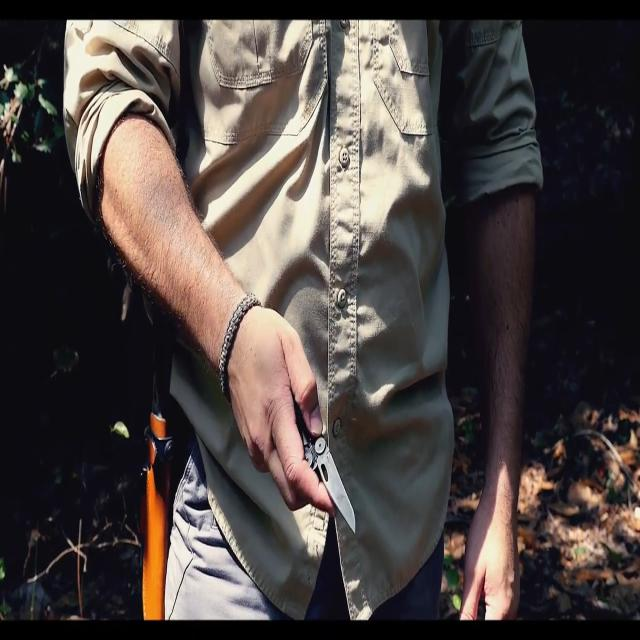knife: (319, 439, 361, 543)
